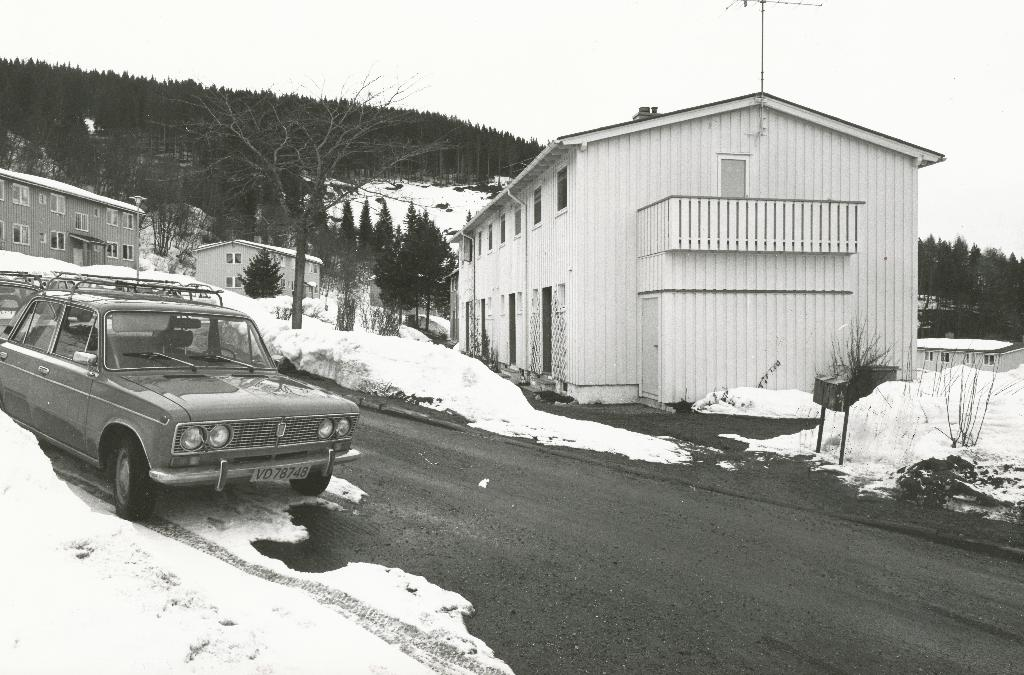Car: (0, 270, 362, 521)
